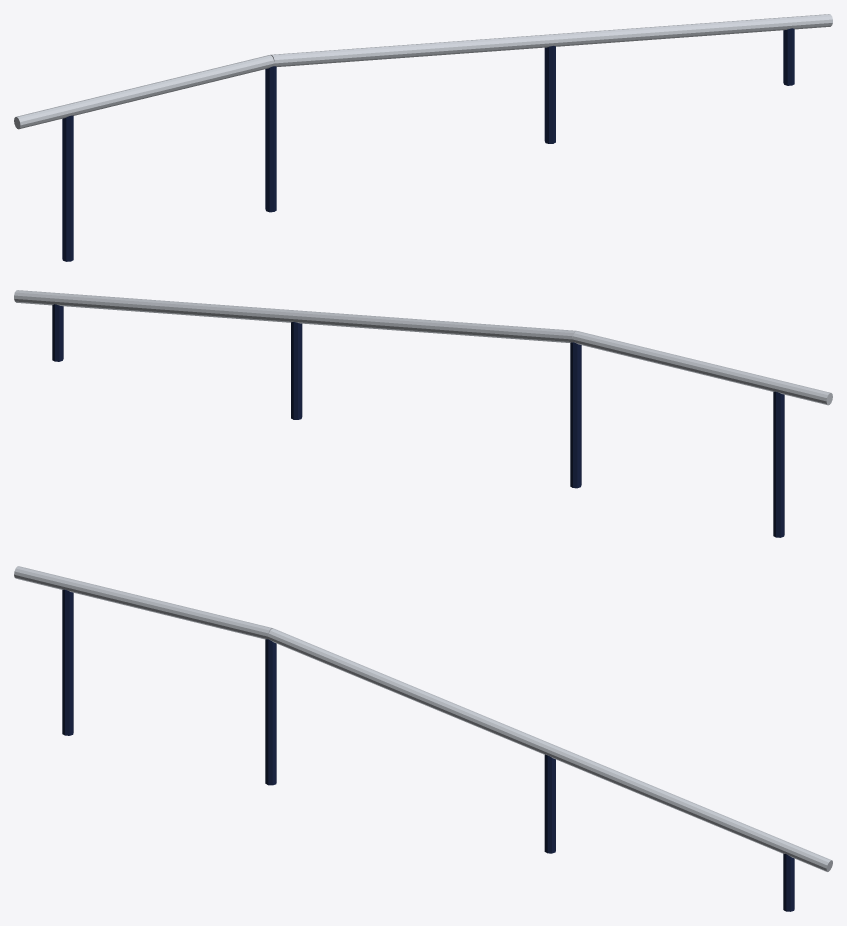
The model's file is rail_down.glb.
3 renders of one model, top to bottom at view 1: azimuth 30°, elevation 25°; view 2: azimuth 150°, elevation 25°; view 3: azimuth 330°, elevation 25°, orthographic.
Visible parts, largest first — view 1: rail_down; view 2: rail_down; view 3: rail_down.
Part boxes in pixels (x1,y1,x2,y2): rail_down: (14, 14, 832, 261); rail_down: (14, 290, 832, 537); rail_down: (14, 566, 832, 911).
Bounding box in the file's own units: 8.01 × 1.45 × 0.1105.
